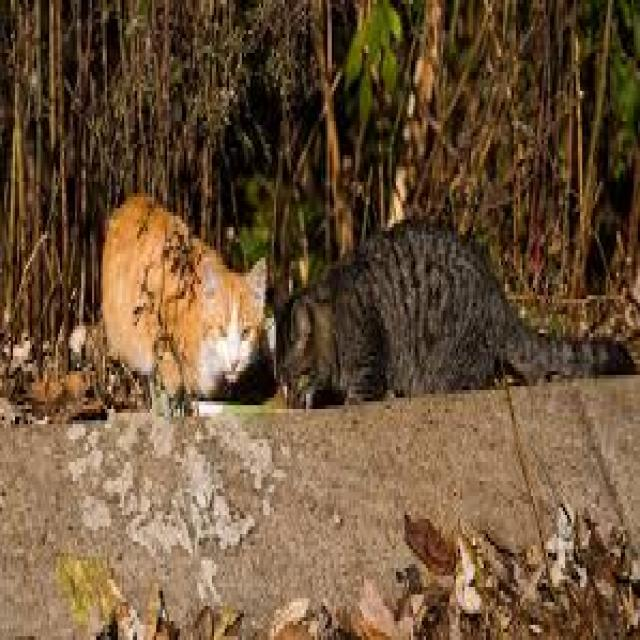cat: (279, 223, 634, 399), (103, 195, 264, 406)
